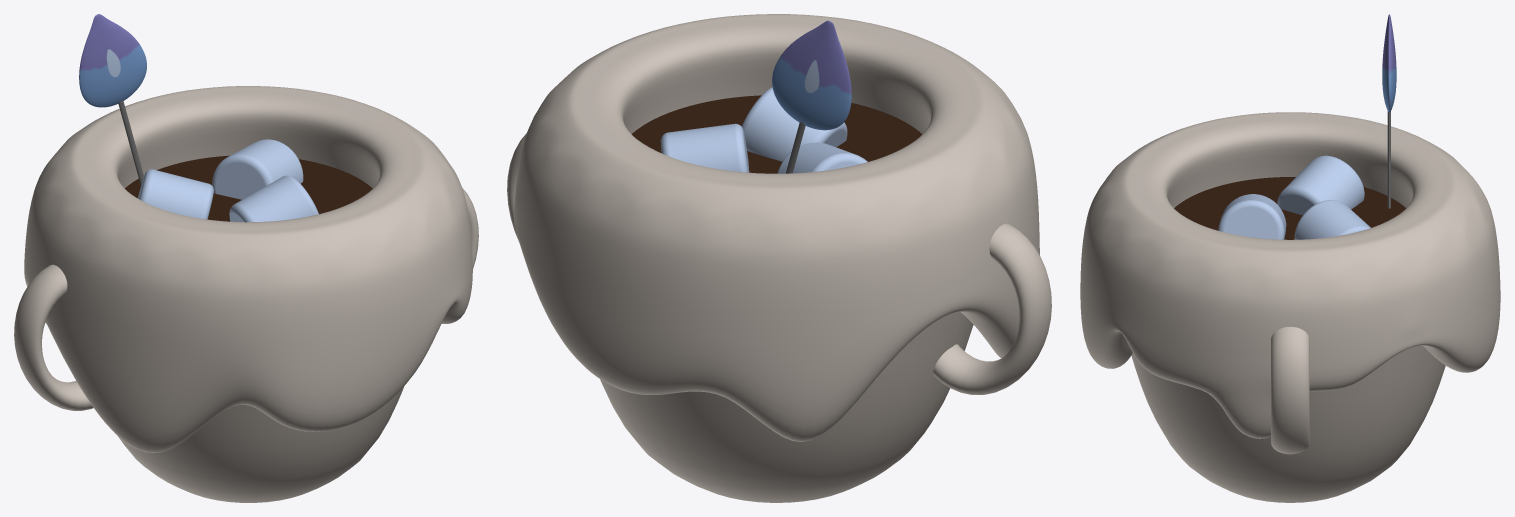
The model's file is litwick_cocoa_mini.glb.
3 renders of one model, left to right at view 1: azimuth 30°, elevation 25°; view 2: azimuth 150°, elevation 25°; view 3: azimuth 270°, elevation 25°, orthographic. The views are drawn at different scales.
Parts seen in each view (by area): view 1: l_handle, flame, drink, marshmellow2, marshmellow3, marshmellow, wick; view 2: l_handle, drink, flame, marshmellow3, marshmellow2, marshmellow; view 3: l_handle, drink, marshmellow, marshmellow3, marshmellow2, flame.
Part boxes in pixels (left/top/right/bottom): l_handle: left=14, top=86, right=478, bottom=502; flame: left=79, top=14, right=146, bottom=107; drink: left=125, top=155, right=372, bottom=221; marshmellow2: left=212, top=139, right=303, bottom=199; marshmellow3: left=229, top=175, right=318, bottom=222; marshmellow: left=138, top=169, right=213, bottom=219; wick: left=118, top=100, right=143, bottom=185; l_handle: left=507, top=14, right=1051, bottom=502; drink: left=631, top=95, right=922, bottom=173; flame: left=772, top=20, right=851, bottom=130; marshmellow3: left=741, top=87, right=847, bottom=161; marshmellow2: left=660, top=123, right=749, bottom=172; marshmellow: left=777, top=142, right=867, bottom=173; l_handle: left=1080, top=112, right=1500, bottom=502; drink: left=1174, top=177, right=1405, bottom=239; marshmellow: left=1277, top=155, right=1364, bottom=215; marshmellow3: left=1218, top=194, right=1286, bottom=239; marshmellow2: left=1294, top=200, right=1370, bottom=239; flame: left=1382, top=14, right=1396, bottom=113.
Size of the model in its own units: 0.0611 by 0.0572 by 0.0521.
5 materials, 2 textured.
